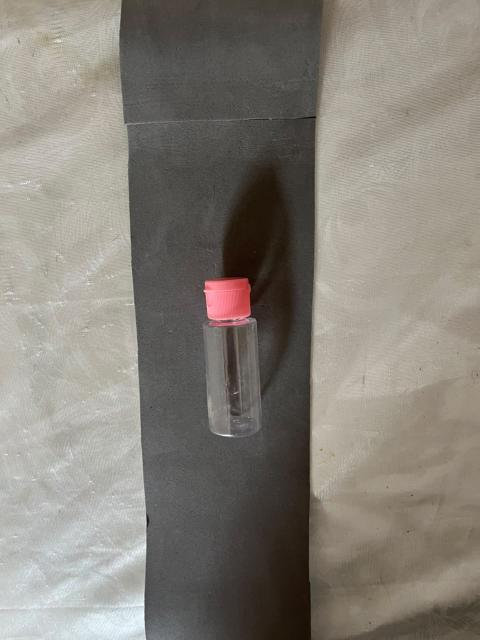PET: (136, 188, 348, 532)
